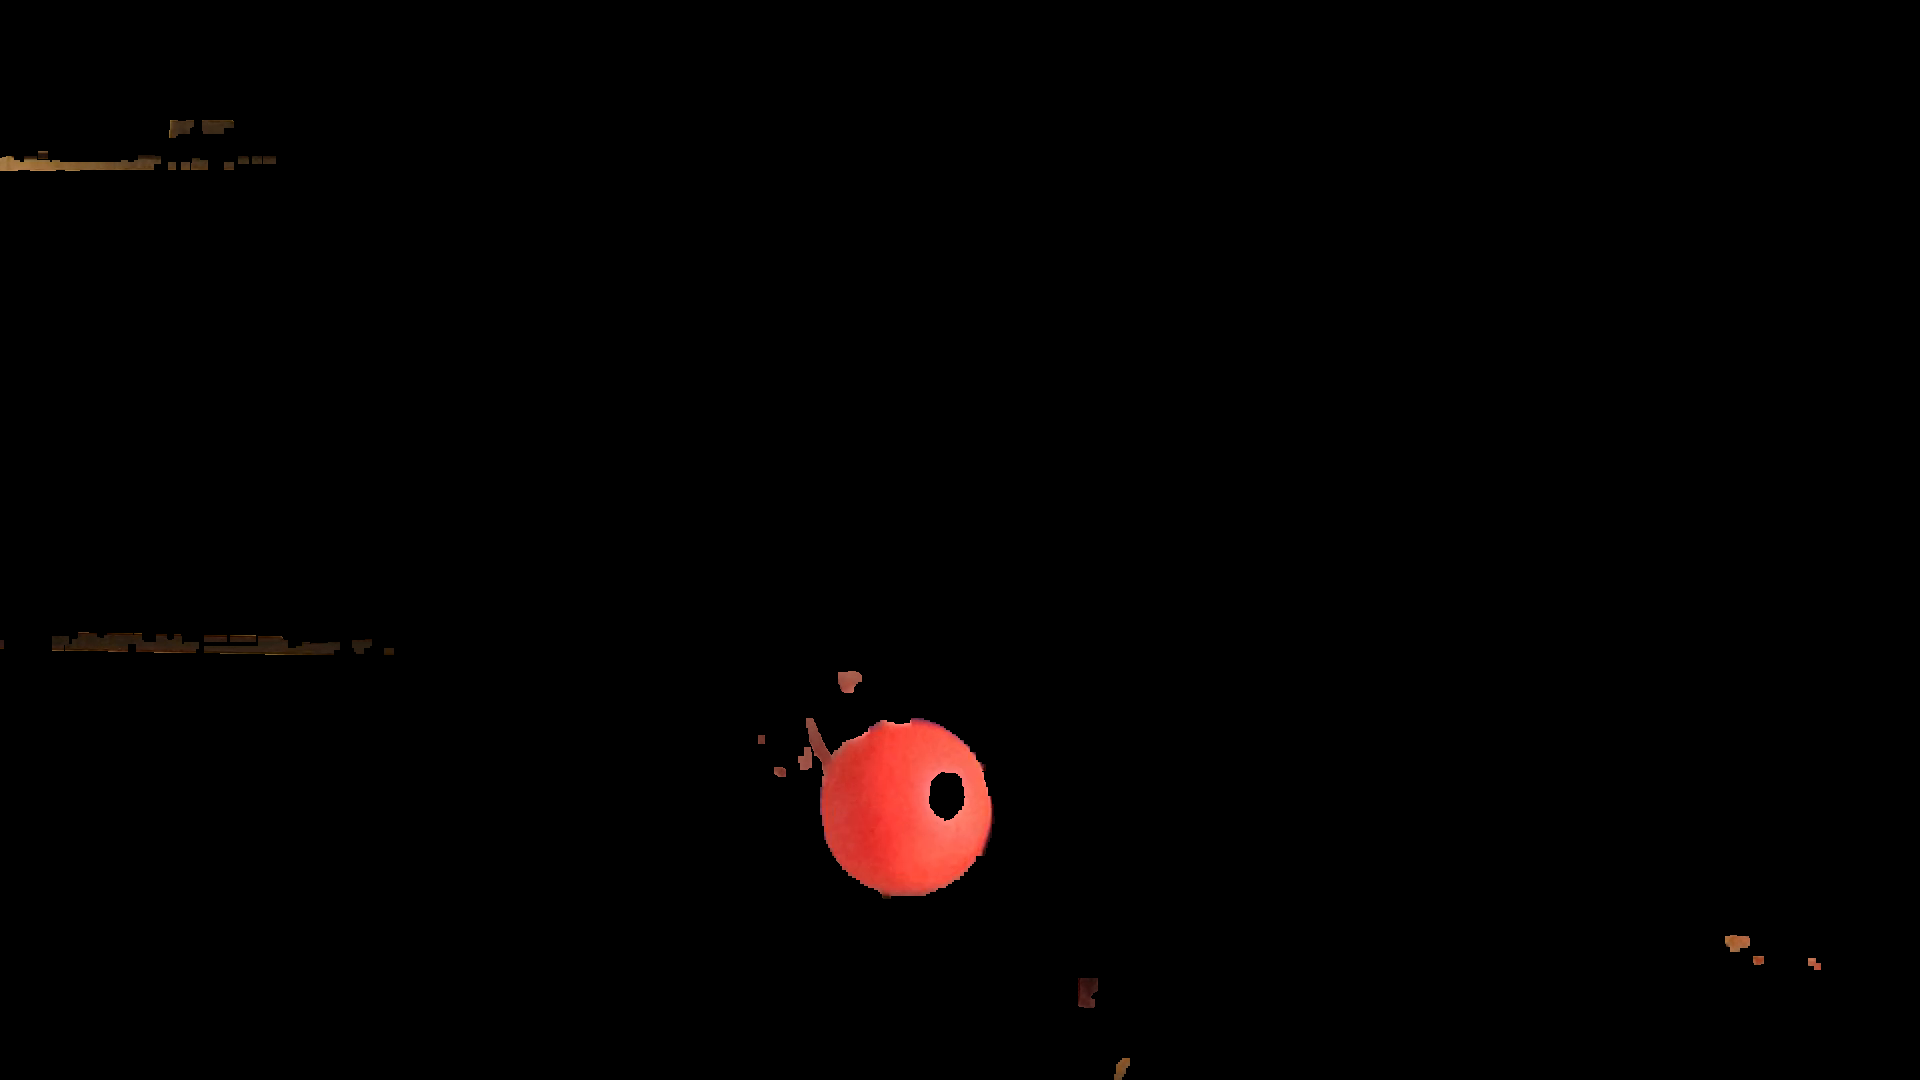Ball: (815, 717, 993, 891)
